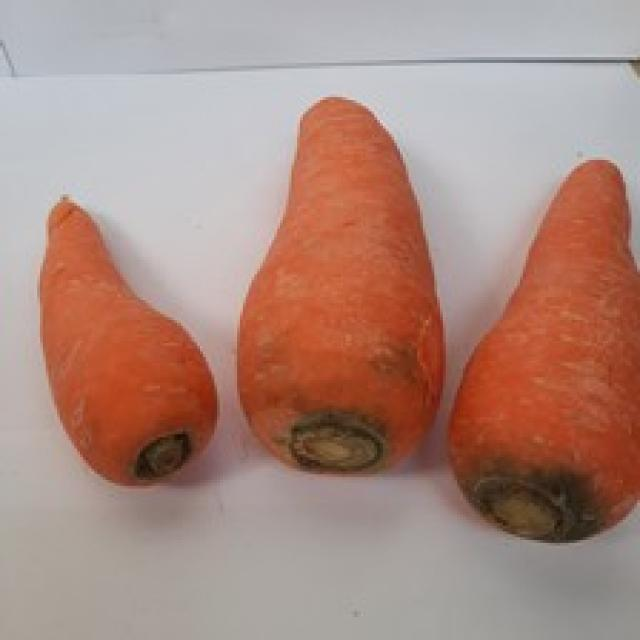Fresh_Carrot: (227, 96, 437, 478), (451, 162, 640, 544), (36, 196, 213, 482)
